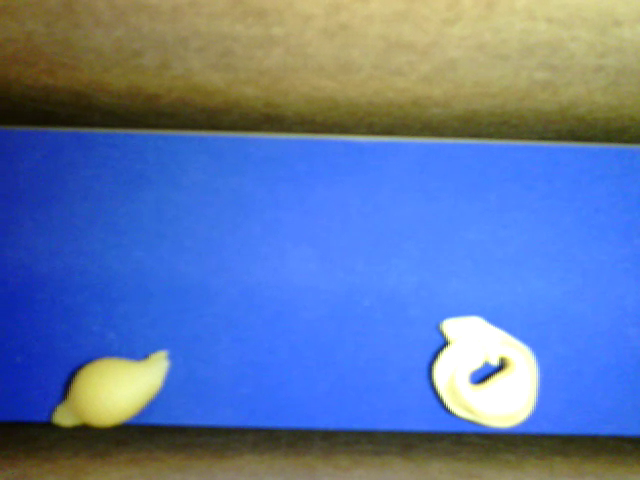shell: (51, 350, 169, 426)
tortellini: (430, 315, 540, 430)
